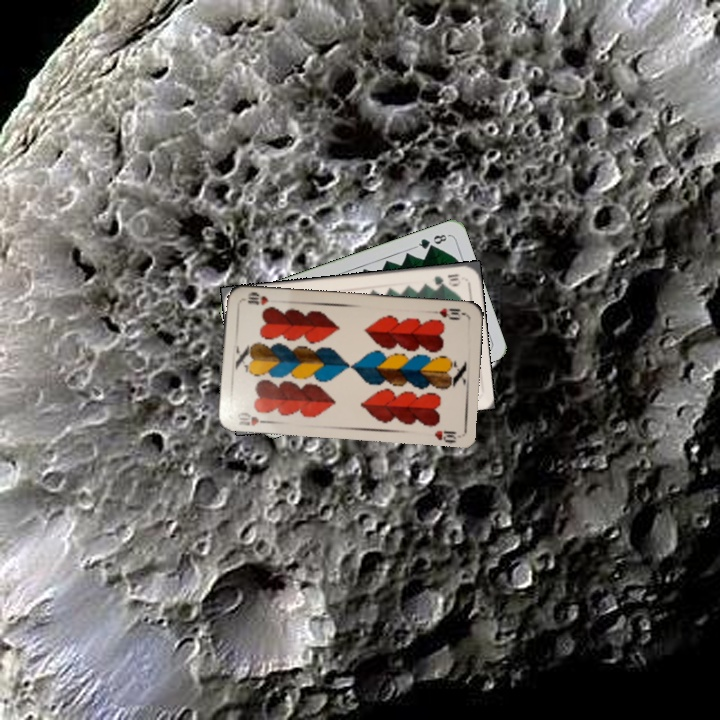G10: (430, 270, 463, 288)
G8: (412, 230, 451, 252)
H10: (233, 408, 272, 428), (428, 304, 469, 322)
